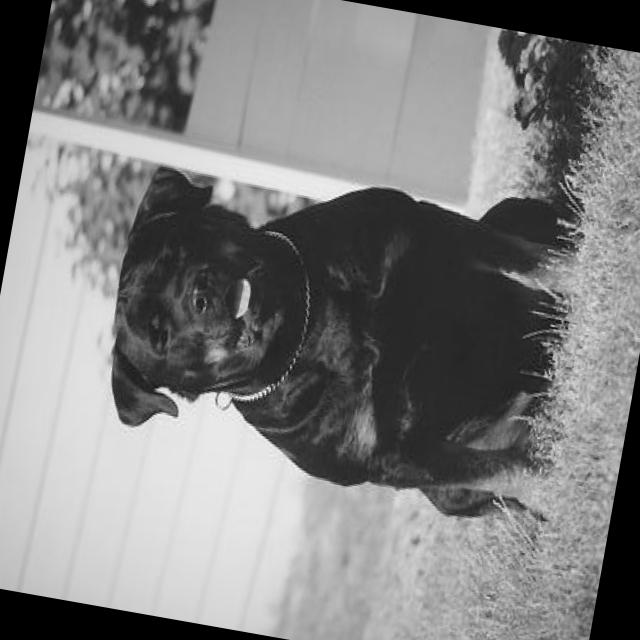sitting: (85, 114, 622, 541)
